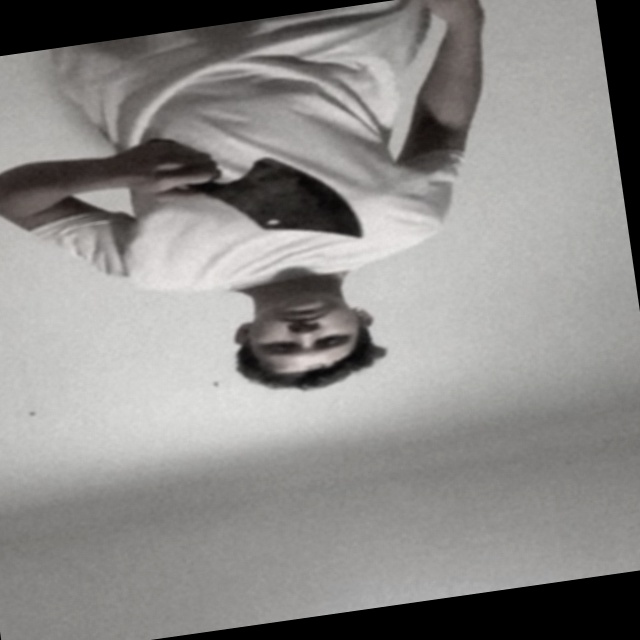Sharp-Object: (207, 146, 365, 256)
